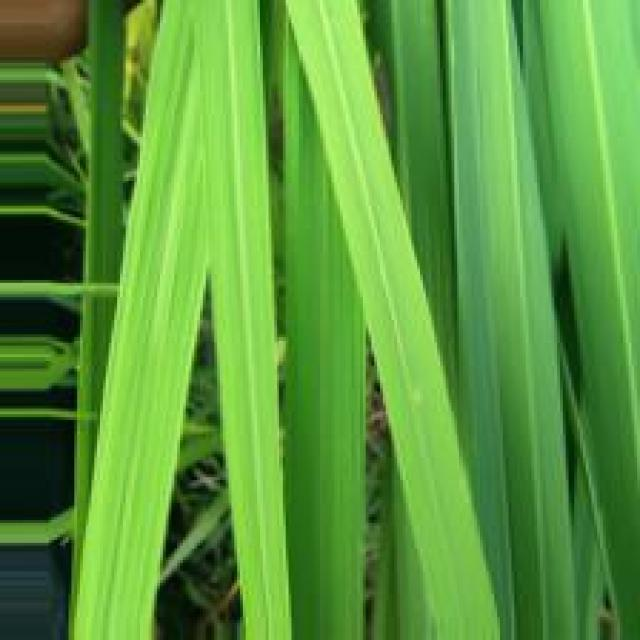HealthyLeaf: (75, 59, 205, 640), (341, 201, 495, 636), (539, 2, 640, 629), (284, 82, 363, 639), (501, 373, 570, 638)
